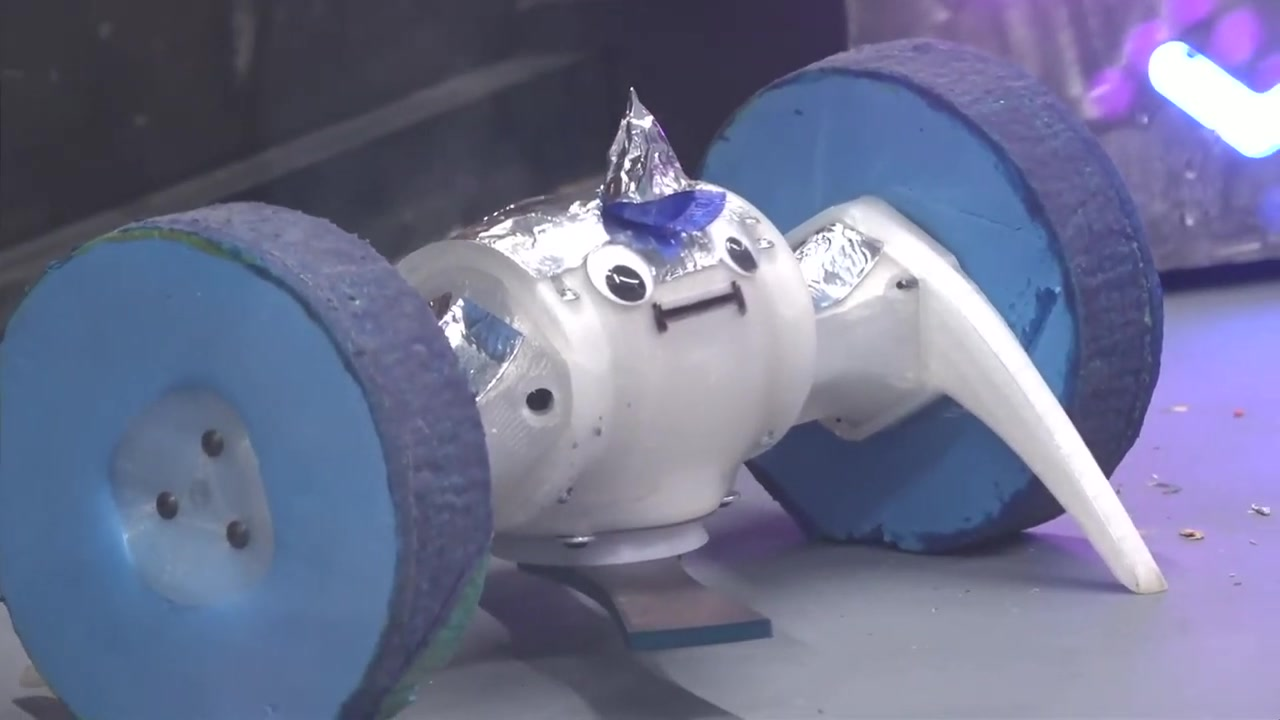combatbot: (0, 38, 1166, 720)
